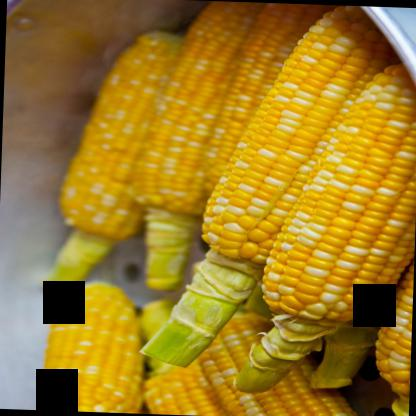corn: (145, 0, 391, 374), (232, 56, 415, 398), (37, 28, 180, 301), (200, 0, 347, 195), (190, 311, 380, 415), (36, 279, 146, 413)
